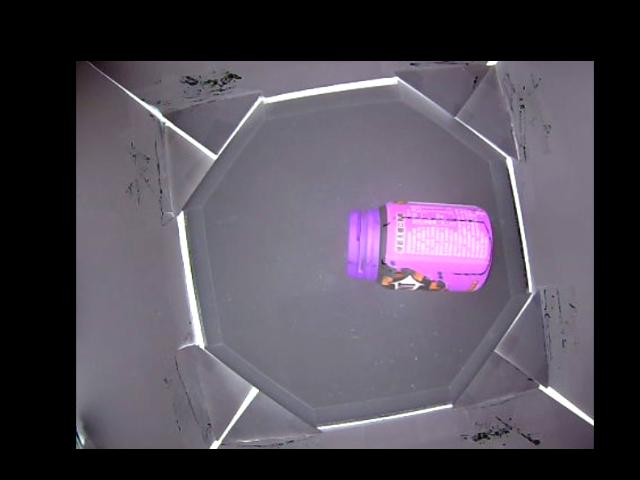Bottle: (347, 200, 493, 293)
